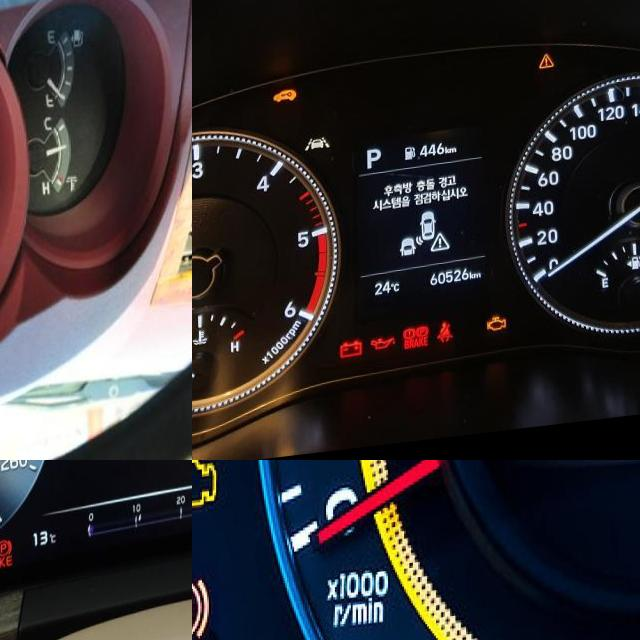Central Warning lamp: (537, 64, 554, 79)
LaneCenteringOff: (303, 140, 329, 156)
